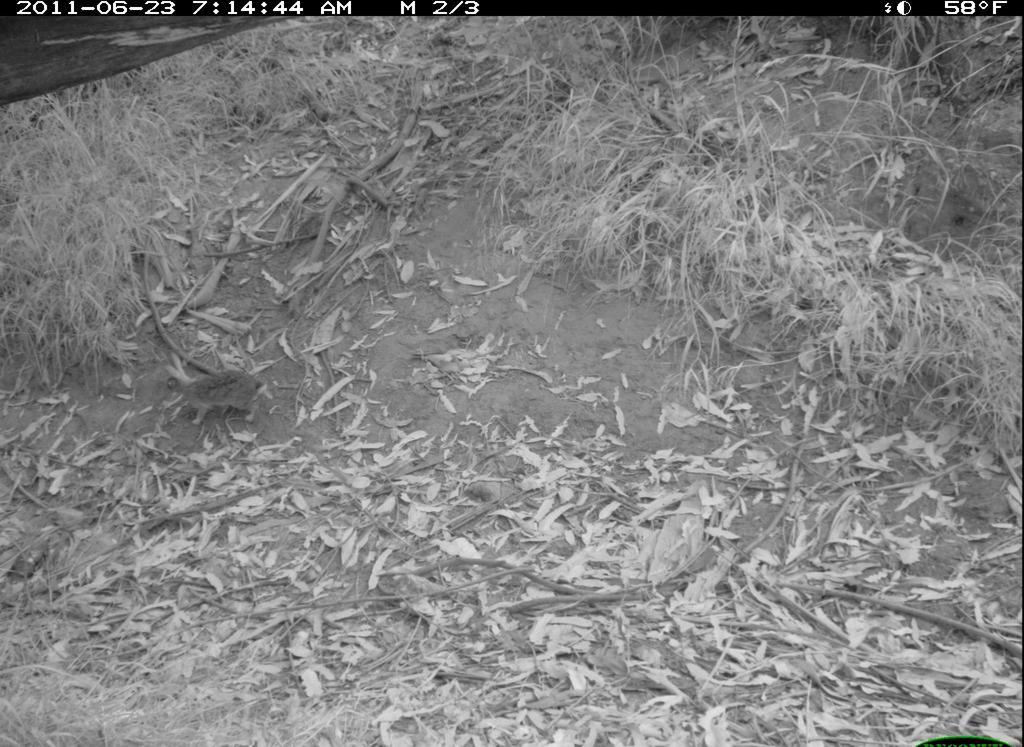rabbit: (143, 346, 274, 436)
